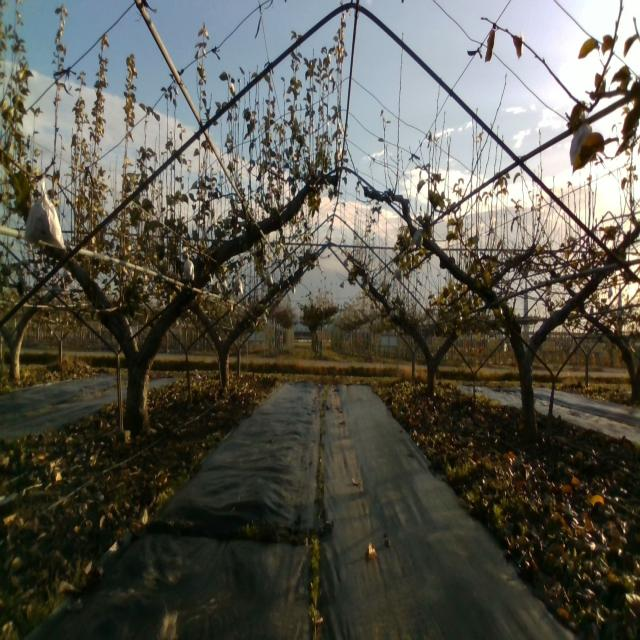pearbags: (24, 172, 66, 248), (568, 106, 600, 160), (184, 253, 196, 279), (410, 228, 424, 250), (233, 277, 243, 298)
